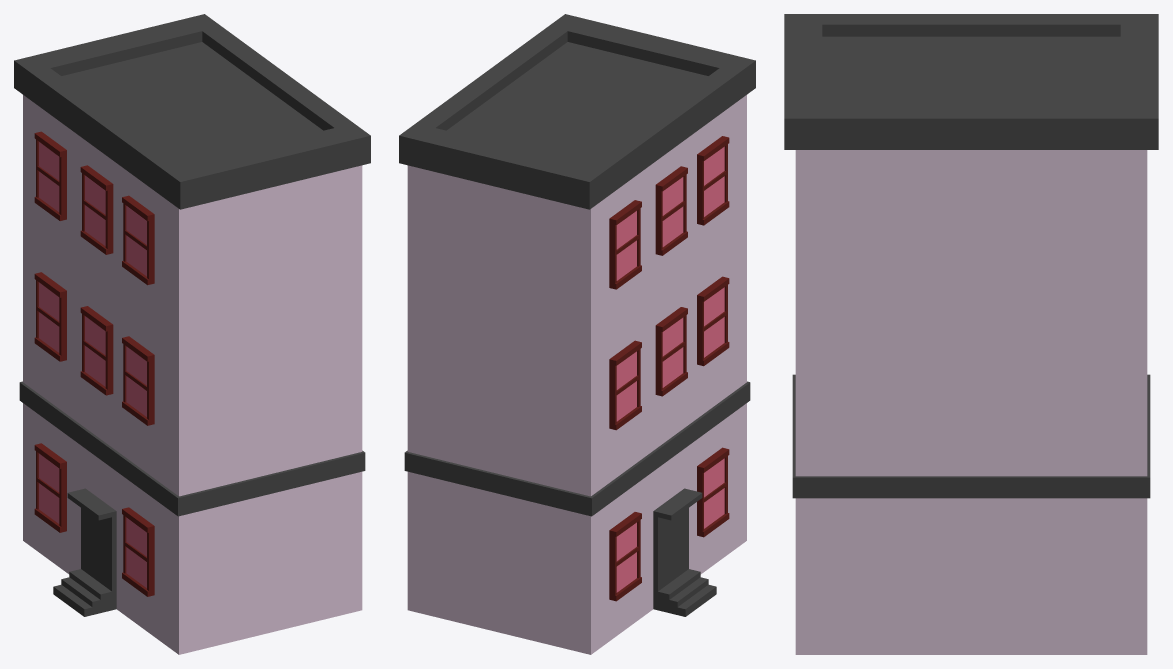
3 renders of one model, left to right at view 1: azimuth 30°, elevation 25°; view 2: azimuth 150°, elevation 25°; view 3: azimuth 270°, elevation 25°, orthographic. The views are drawn at different scales.
Parts seen in each view (by area): view 1: Cube, Cube.009, Cube.003, Cube.008, Cube.010, Cube.011, Cube.012, Cube.007; view 2: Cube, Cube.009, Cube.003, Cube.008, Cube.011, Cube.010, Cube.012, Cube.007; view 3: Cube, Cube.003, Cube.009, Cube.008.
Part boxes in pixels (left/top/right/bottom): Cube: left=23, top=95, right=362, bottom=496; Cube.009: left=14, top=14, right=370, bottom=209; Cube.003: left=23, top=403, right=362, bottom=654; Cube.008: left=19, top=381, right=365, bottom=516; Cube.010: left=34, top=272, right=154, bottom=425; Cube.011: left=34, top=131, right=154, bottom=285; Cube.012: left=53, top=488, right=116, bottom=616; Cube.007: left=34, top=443, right=154, bottom=596; Cube: left=407, top=95, right=746, bottom=496; Cube.009: left=399, top=14, right=755, bottom=209; Cube.003: left=407, top=403, right=746, bottom=654; Cube.008: left=404, top=381, right=750, bottom=516; Cube.011: left=609, top=136, right=729, bottom=289; Cube.010: left=609, top=276, right=729, bottom=430; Cube.012: left=653, top=488, right=716, bottom=616; Cube.007: left=609, top=447, right=729, bottom=601; Cube: left=795, top=150, right=1147, bottom=476; Cube.003: left=795, top=498, right=1147, bottom=654; Cube.009: left=784, top=14, right=1158, bottom=149; Cube.008: left=792, top=374, right=1150, bottom=498.
Bounding box in the file's own units: 426 × 888 × 560.
